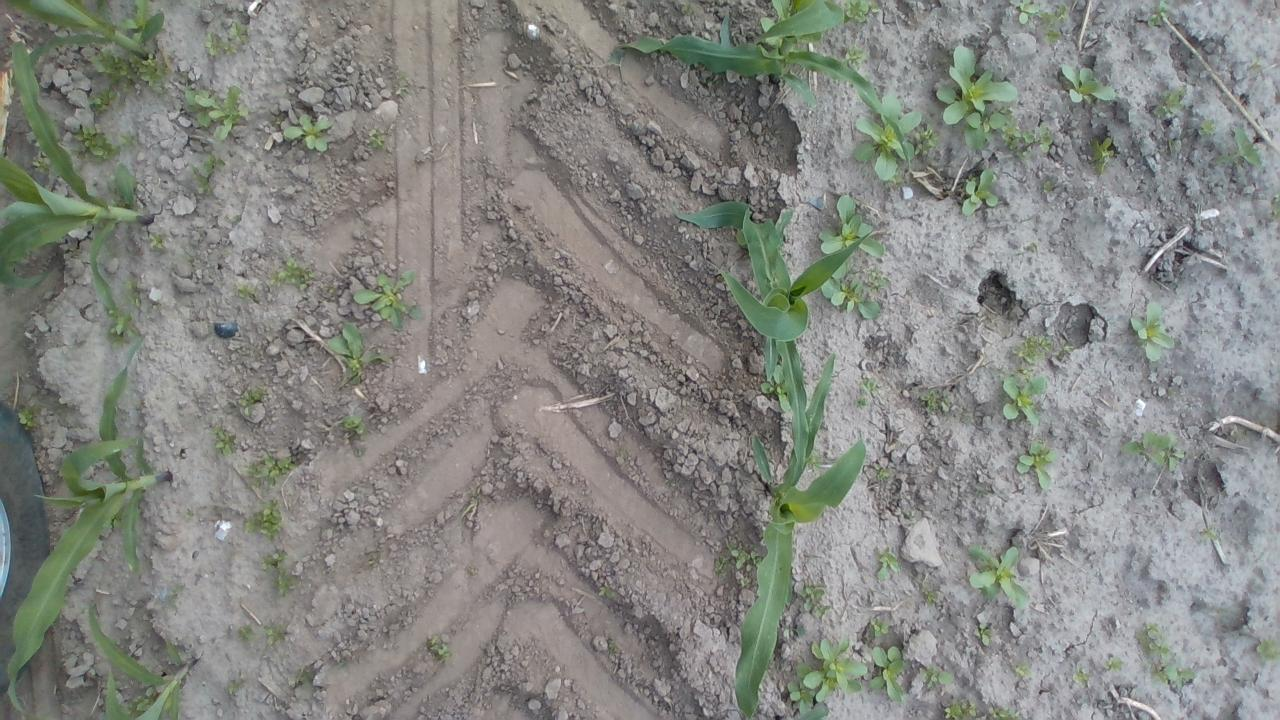Maize: (671, 196, 883, 487), (3, 335, 162, 714), (710, 351, 870, 712), (613, 3, 914, 173), (0, 43, 163, 337), (85, 596, 198, 718), (0, 2, 163, 61)
Weeds: (937, 44, 1026, 146), (850, 88, 920, 184), (350, 264, 428, 334), (817, 197, 891, 268), (806, 629, 870, 700), (1140, 625, 1201, 694), (971, 542, 1033, 606), (330, 332, 392, 390), (90, 60, 168, 106), (824, 274, 890, 326), (1127, 299, 1179, 364), (190, 92, 252, 146), (1055, 60, 1118, 112), (68, 120, 140, 164), (1118, 432, 1188, 474), (192, 16, 252, 62), (954, 161, 1005, 215), (776, 671, 834, 717), (282, 112, 334, 163), (871, 642, 912, 706), (1001, 373, 1048, 428), (1014, 440, 1061, 491), (1018, 332, 1078, 366), (1226, 124, 1265, 174), (1152, 80, 1190, 131), (259, 546, 296, 597), (246, 498, 292, 538), (249, 451, 302, 485), (759, 364, 791, 413), (338, 412, 374, 454), (940, 701, 1019, 720), (277, 260, 323, 292), (710, 546, 762, 574), (918, 384, 957, 421), (105, 312, 141, 350), (208, 426, 242, 463), (192, 158, 228, 191), (1092, 140, 1118, 181), (802, 585, 834, 617), (1030, 128, 1056, 167), (926, 662, 954, 698), (857, 378, 883, 414), (238, 388, 270, 417), (145, 234, 173, 266), (870, 612, 899, 642), (1012, 2, 1043, 30), (129, 688, 160, 714), (1255, 636, 1280, 668), (426, 633, 452, 663), (230, 281, 258, 307), (874, 552, 896, 584), (366, 127, 394, 152), (846, 46, 871, 72), (18, 404, 42, 431), (262, 622, 290, 644), (1200, 115, 1216, 151), (1104, 656, 1132, 675), (784, 622, 808, 644), (924, 588, 946, 612), (1070, 664, 1092, 688), (1010, 660, 1034, 682), (974, 620, 996, 644), (594, 584, 620, 603), (850, 6, 874, 26), (1153, 3, 1171, 18), (240, 625, 252, 643)
